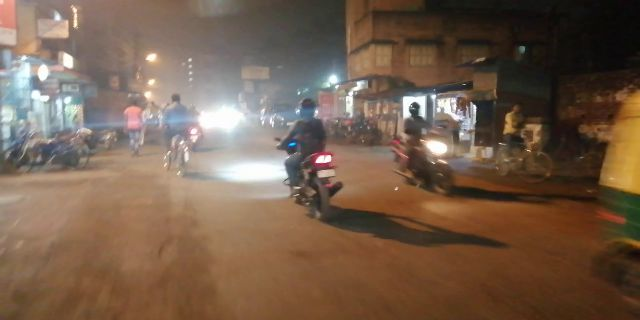Cycle: (486, 103, 561, 193), (157, 91, 198, 180)
Motorbike: (278, 93, 343, 228), (393, 99, 455, 203)
